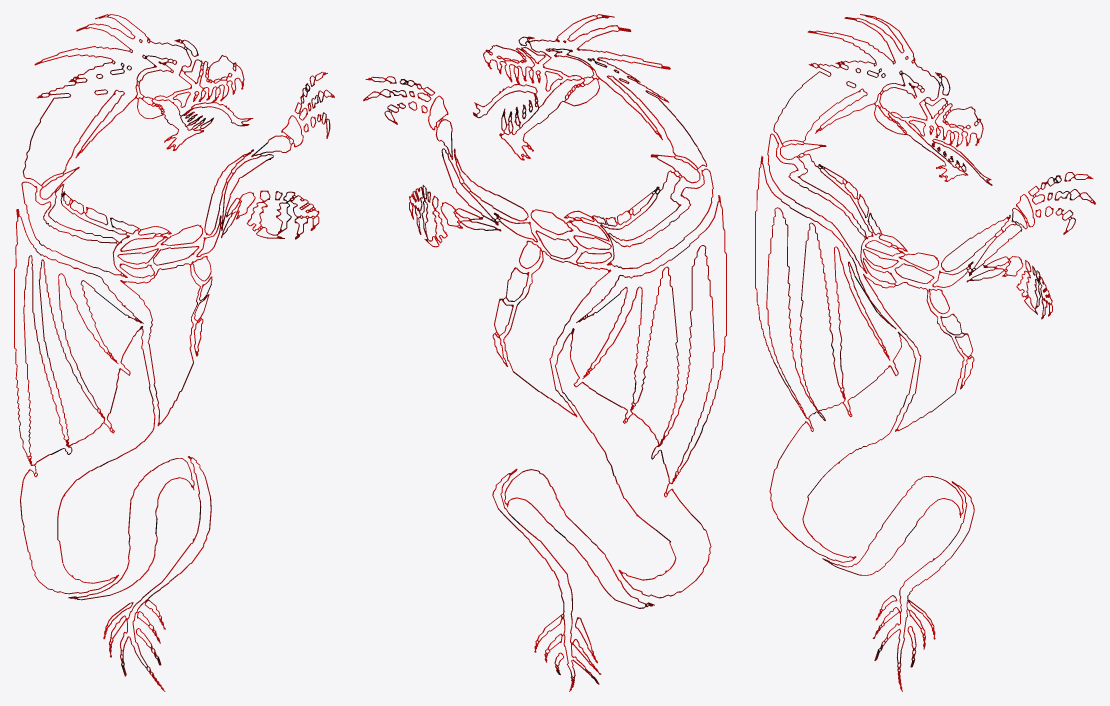
Rendered from Dragon.glb.
The picture shows the model from 3 angles, left to right: view 1: azimuth 30°, elevation 25°; view 2: azimuth 150°, elevation 25°; view 3: azimuth 330°, elevation 25°; orthographic projection. The views are drawn at different scales.
Size of the model in its own units: 0.4118 by 0.7925 by 0.0412.
